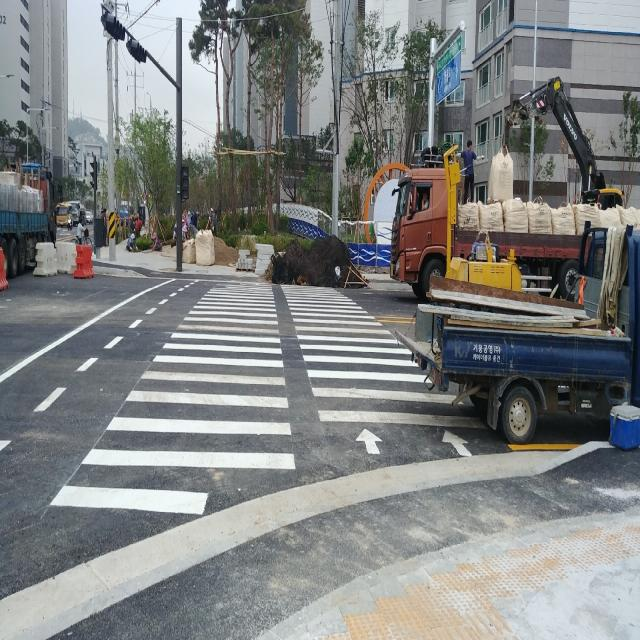횡단보도: (46, 274, 491, 521)
